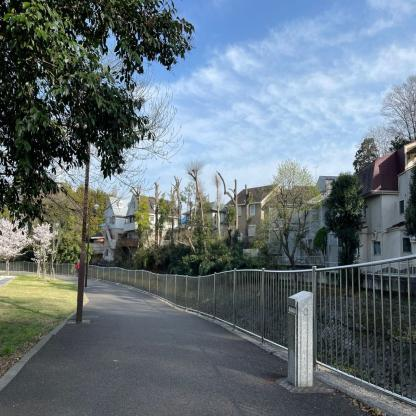Someiyoshino: (0, 208, 58, 273)
